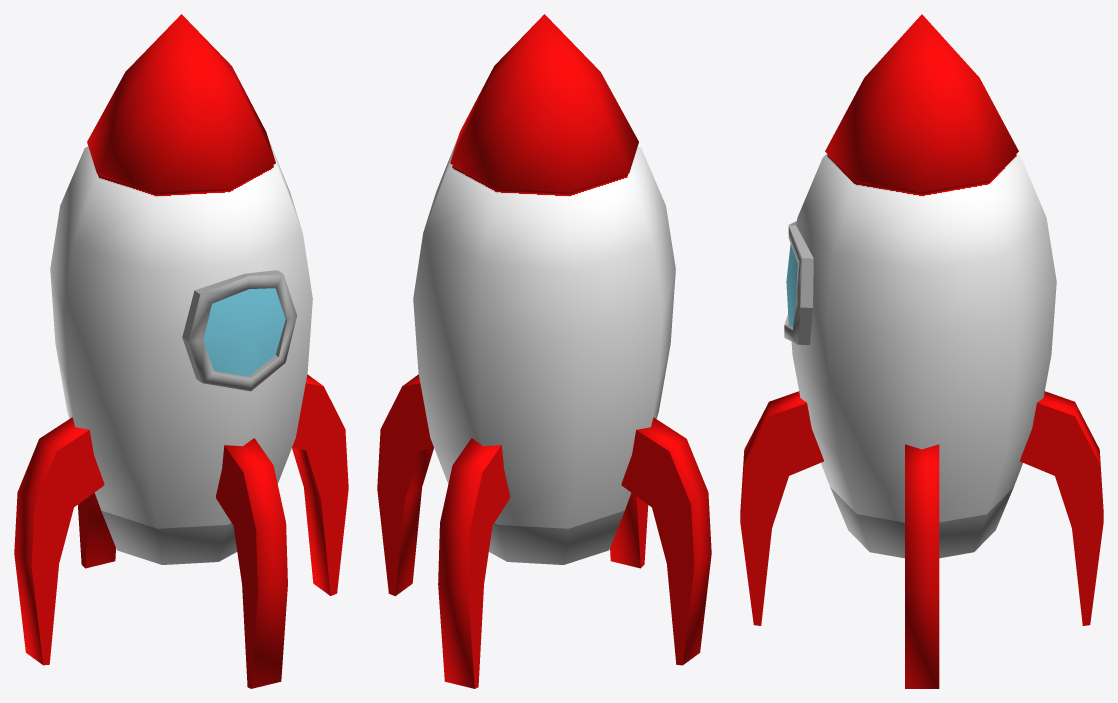
File: simple_rocket.glb
The picture shows the model from 3 angles, left to right: view 1: azimuth 30°, elevation 25°; view 2: azimuth 150°, elevation 25°; view 3: azimuth 270°, elevation 25°; orthographic projection.
Parts seen in each view (by area): view 1: Cube; view 2: Cube; view 3: Cube.
Boxes of the visible parts, x1,y1,x2,y2 form: Cube: (14,14,348,688); Cube: (377,14,711,688); Cube: (740,14,1103,688).
Bounding box in the file's own units: 4.75 × 8.73 × 4.75.
Materials: 1 (1 with a texture image).
